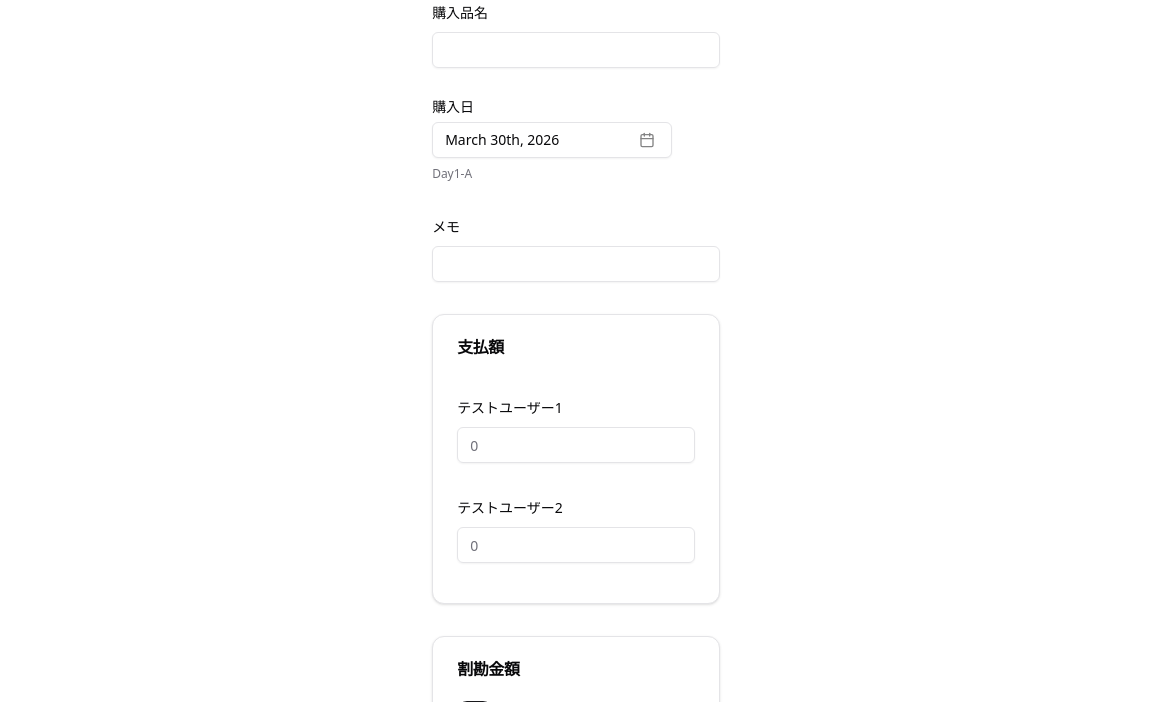
Test case: ClientForm › 購入日を変更したら、その新しい日付の同日リストに切り替わる
This screenshot has width=1152, height=702.
Expected: the text "Day1-A" is shown, left=432, top=165, right=472, bottom=182
Click the button named "購入日".
click(552, 140)  # box left=432, top=122, right=672, bottom=158
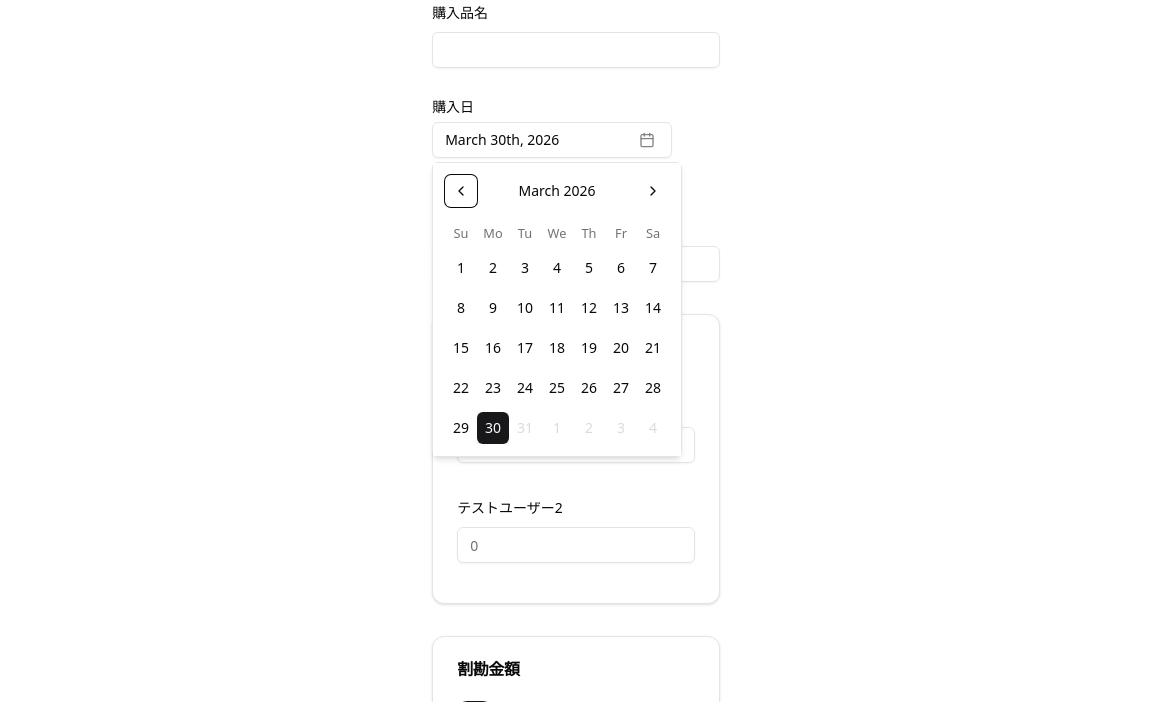
Click the button "29".
click(461, 428)  # box left=445, top=412, right=477, bottom=444
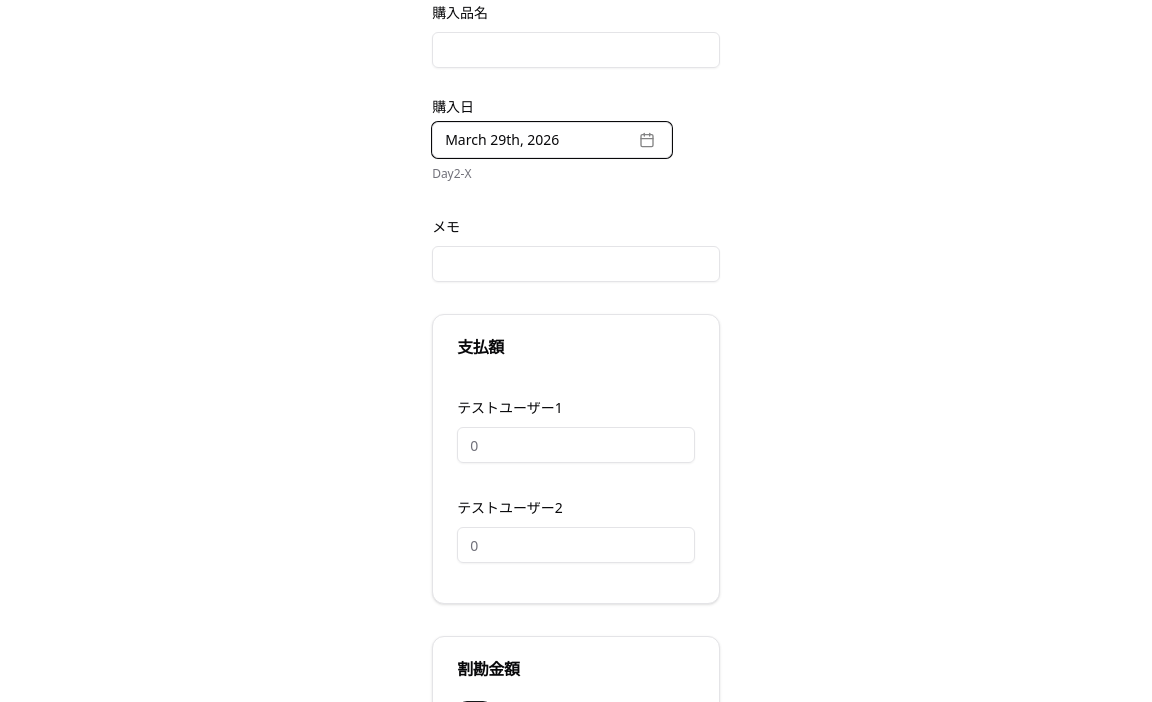
Expected: the text "Day1-A" is gone
Expected: the text "Day2-X" is shown, left=432, top=165, right=472, bottom=182
